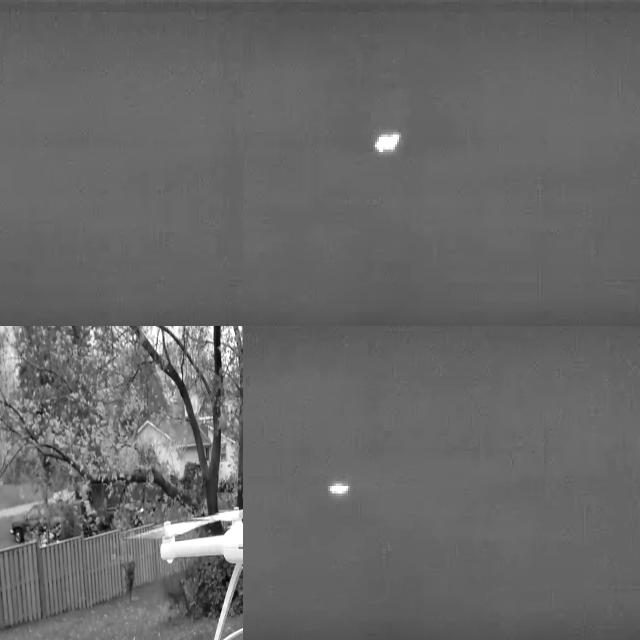1: (368, 130, 412, 162), (328, 476, 362, 504)
drone: (145, 508, 243, 640)
